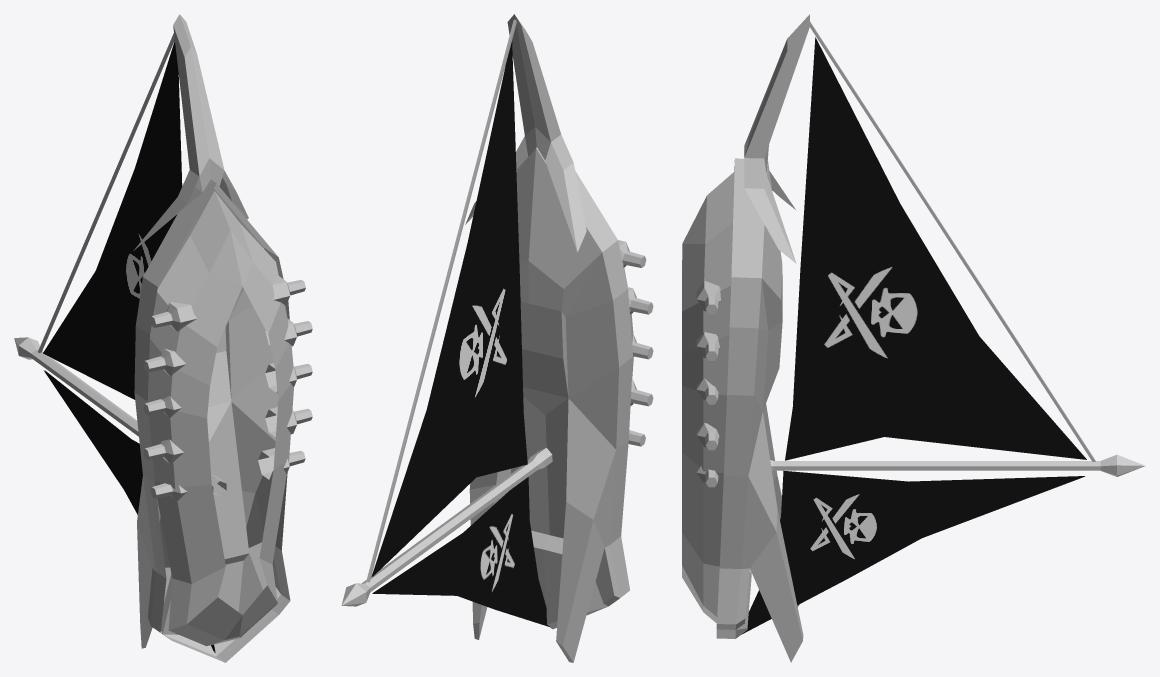
The model's file is pirate_speed_my_5.fbx.
3 views of the same model, side by side, from view 1: azimuth 30°, elevation 25°; view 2: azimuth 150°, elevation 25°; view 3: azimuth 270°, elevation 25° (orthographic). The views are drawn at different scales.
Parts seen in each view (by area): view 1: Cube.237; view 2: Cube.237; view 3: Cube.237.
Boxes of the visible parts, <box> form: Cube.237: <box>14,14,312,662</box>; Cube.237: <box>341,14,653,662</box>; Cube.237: <box>682,14,1145,662</box>.
Bounding box in the file's own units: 194 × 700 × 470.
